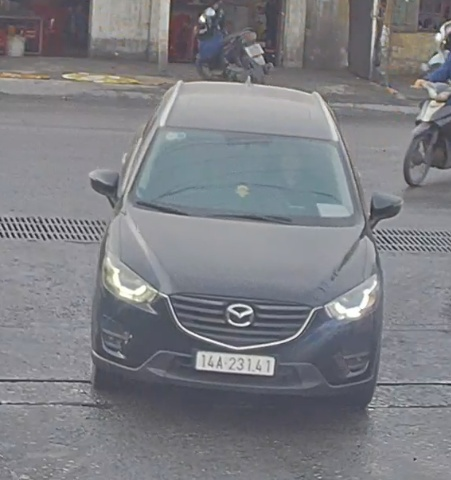vehicle plate: (191, 340, 278, 381)
